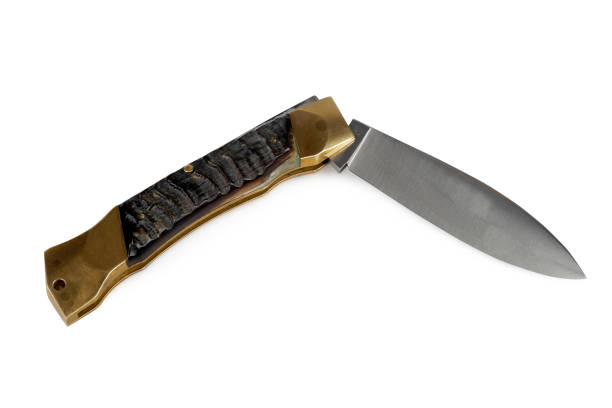knife: (347, 124, 590, 282)
